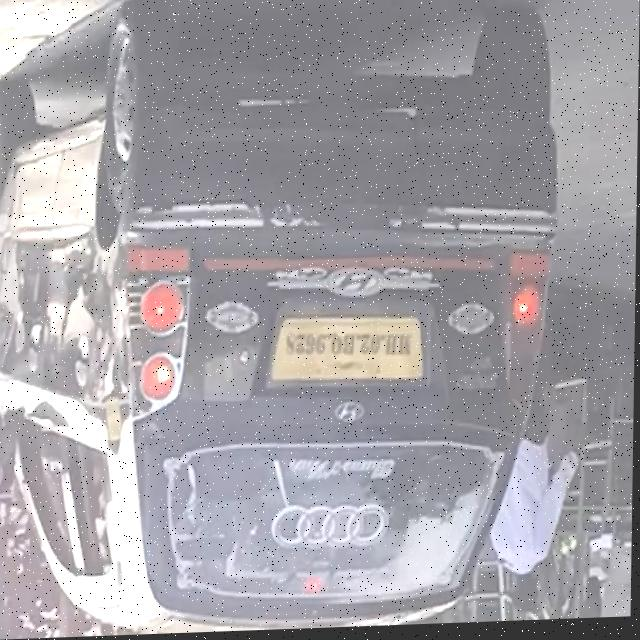plate: (270, 309, 433, 388)
